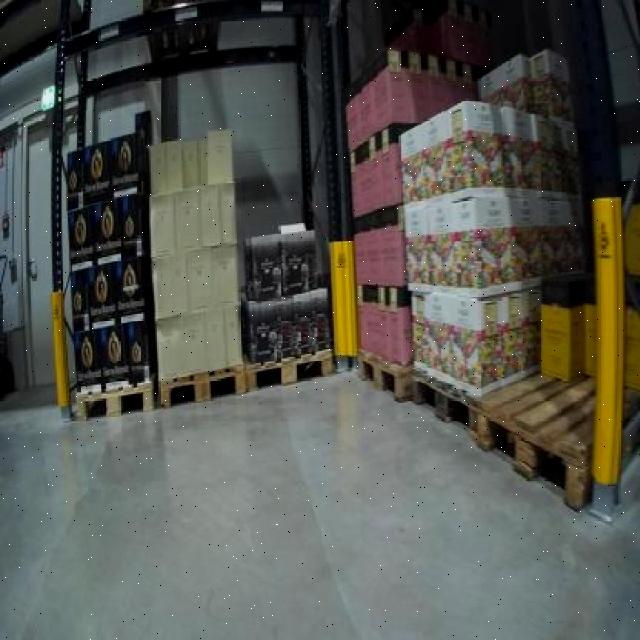pallet: (468, 358, 636, 512), (150, 349, 246, 419), (59, 369, 160, 433), (240, 334, 340, 398), (411, 352, 481, 442), (342, 336, 418, 411)
